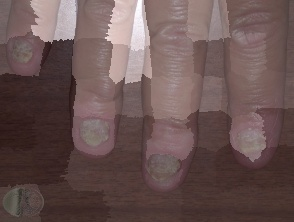Nail_psoriasis: (229, 117, 279, 170), (73, 105, 117, 157), (142, 142, 190, 189), (4, 28, 43, 73)
